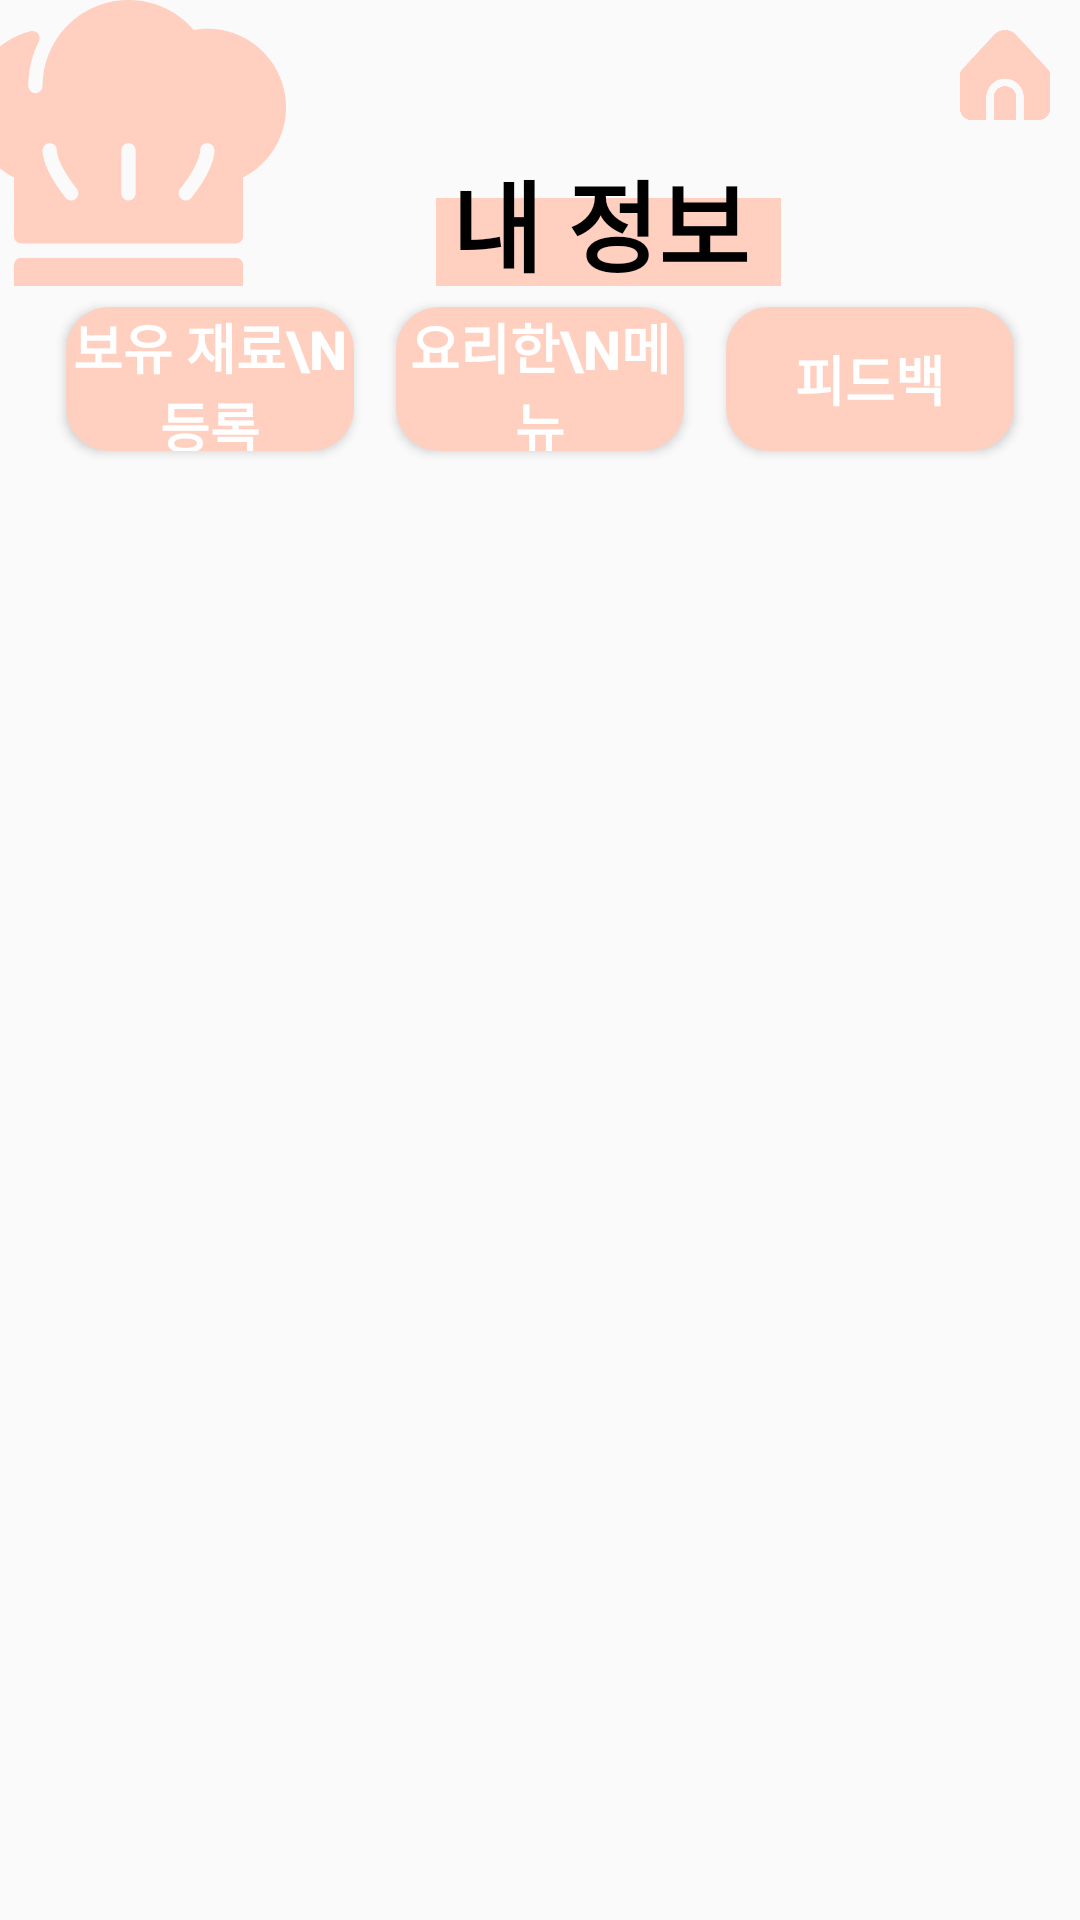

Icon click points for this 1080x1920 phone screenshot, format point (x, y):
home: point (1005, 75)
